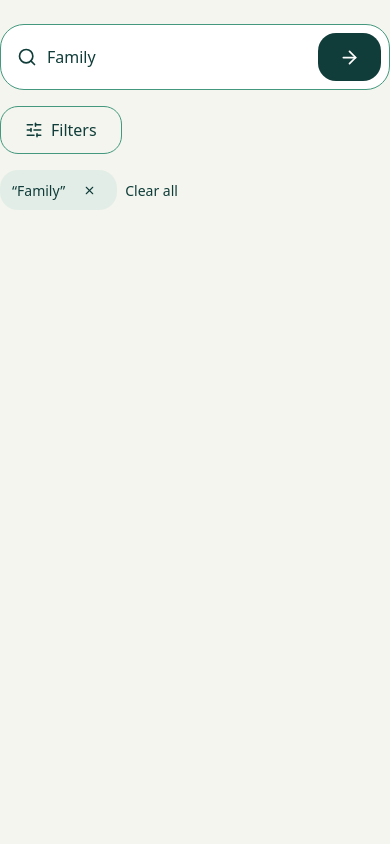
URL filters › filter sheet is a named portal dialog and Escape dismisses it
Click the button "Filters".
click(61, 130)  # box [0,106,122,154]
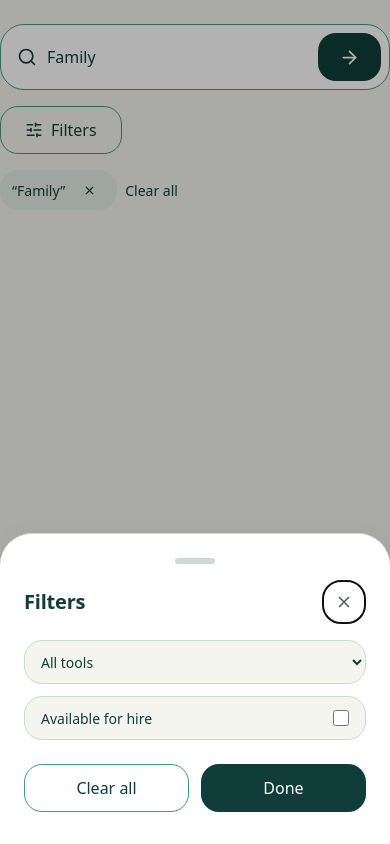
Press Escape in the dialog "Filters", box [0,533,389,843]
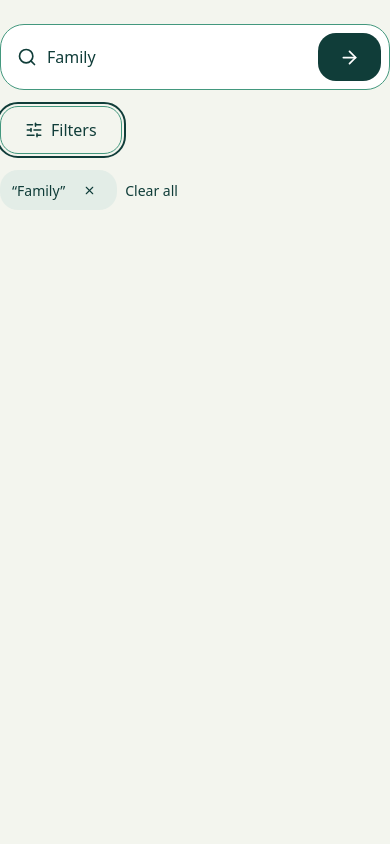
Now the dialog is gone
